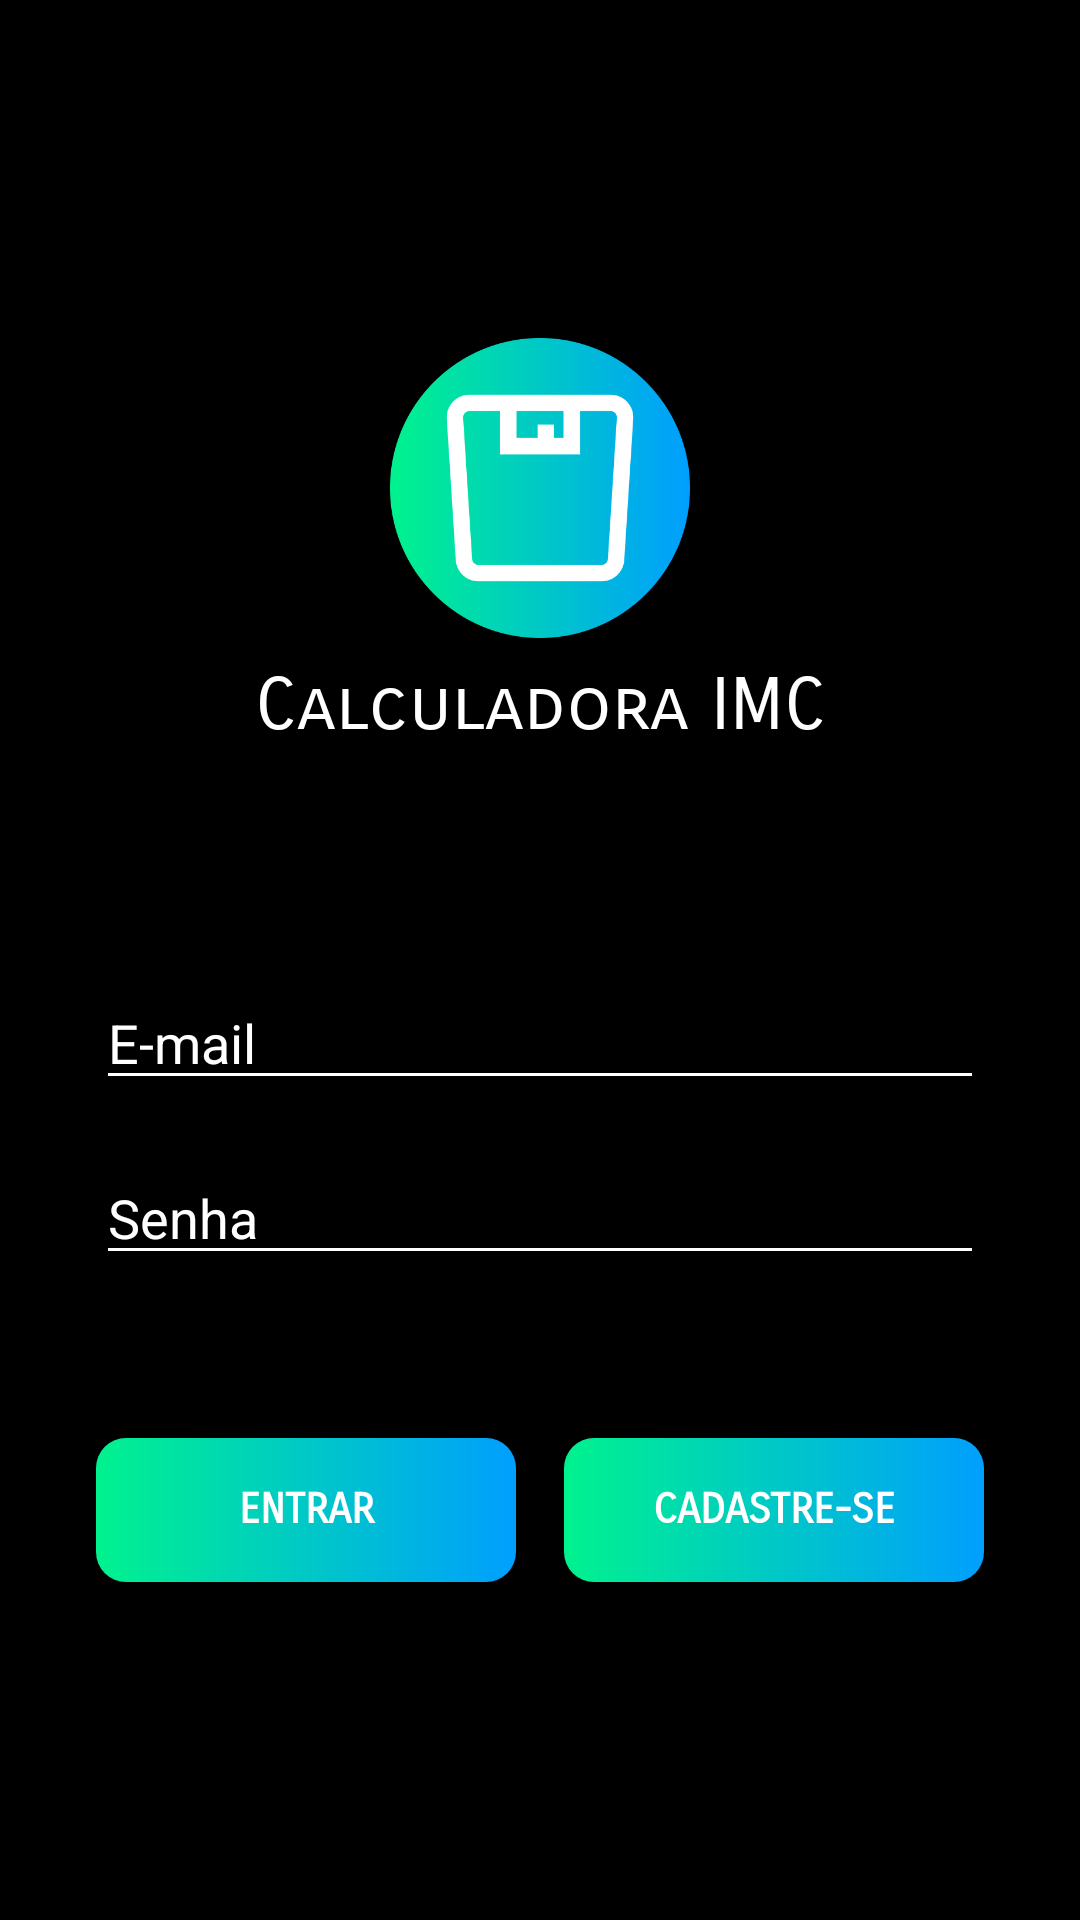

Screen size 1080 x 1920. Icon name, then its center in pixels as (x=x, y=y):
weight: (x=540, y=488)
